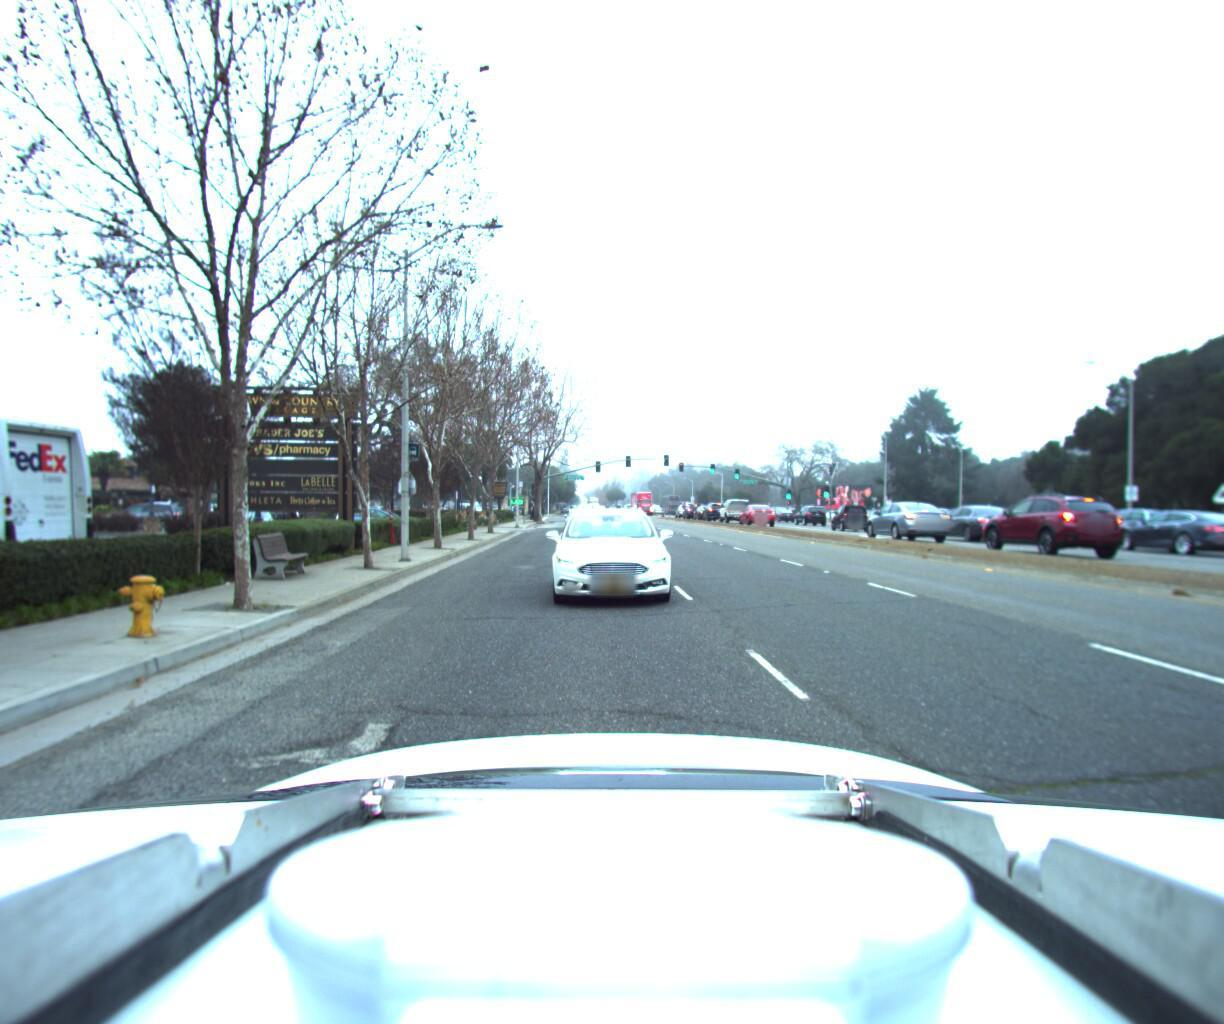car: (542, 501, 679, 611), (969, 489, 1122, 555), (1095, 500, 1224, 552), (1080, 500, 1194, 546), (908, 498, 1014, 538), (856, 495, 948, 537), (331, 500, 415, 529), (824, 496, 867, 524), (715, 490, 753, 516), (736, 496, 780, 518), (560, 501, 592, 526), (790, 498, 827, 519), (701, 493, 732, 516)
other_vehicle: (1200, 465, 1224, 565)
truck: (0, 404, 108, 607)
